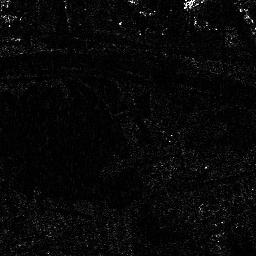ship: (232, 1, 256, 35)
